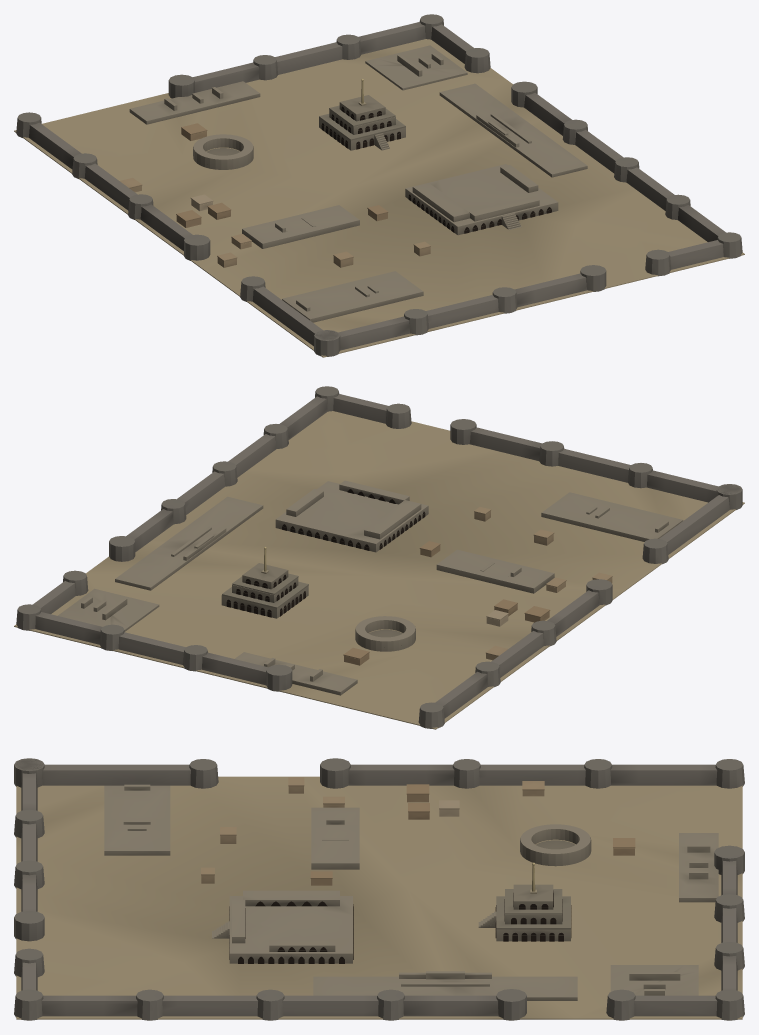
The model's file is kotla-ruin.glb.
The picture shows the model from 3 angles, top to bottom: view 1: azimuth 30°, elevation 25°; view 2: azimuth 150°, elevation 25°; view 3: azimuth 270°, elevation 25°; orthographic projection. The views are drawn at different scales.
Visible parts, largest first — view 1: p0_walls, p2_pillar, p1_mosque; view 2: p0_walls, p2_pillar, p1_mosque; view 3: p0_walls, p2_pillar, p1_mosque.
Boxes of the visible parts, box(x1,y1,x2,y2) form: p0_walls: box(14, 14, 744, 357); p2_pillar: box(120, 45, 587, 322); p1_mosque: box(193, 134, 558, 235); p0_walls: box(14, 386, 744, 729); p2_pillar: box(58, 492, 683, 695); p1_mosque: box(275, 480, 428, 651); p0_walls: box(14, 758, 744, 1020); p2_pillar: box(104, 777, 718, 1000); p1_mosque: box(212, 824, 591, 963).
Size of the model in its own units: 262 by 32.04 by 332.
